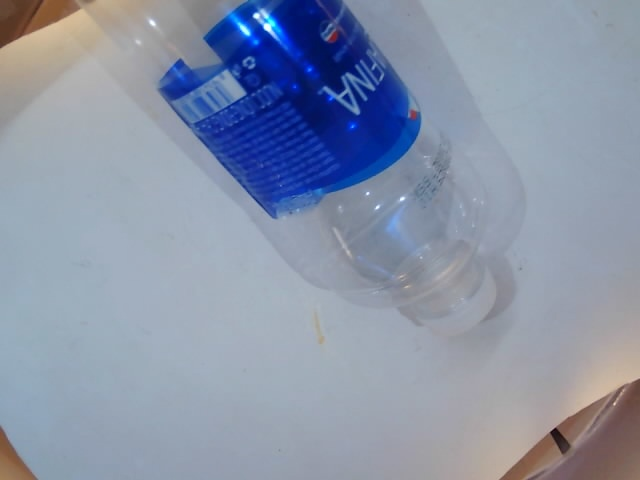plastic: (54, 0, 511, 335)
